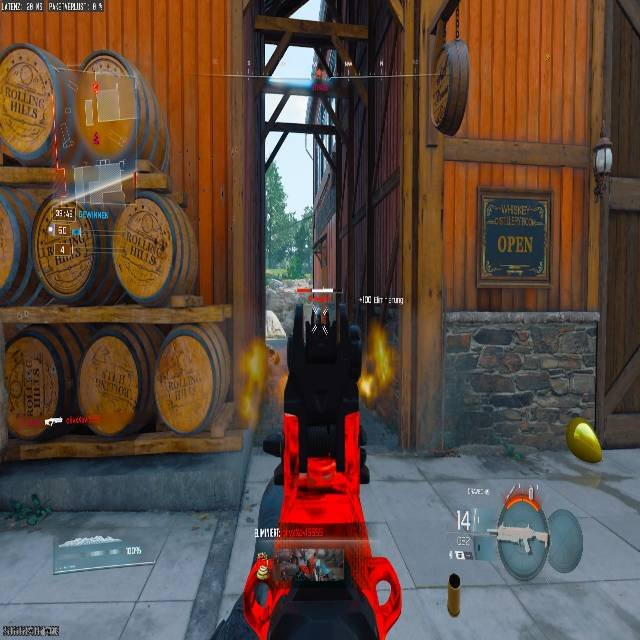head: (0, 43, 81, 164)
player: (307, 56, 337, 125)
